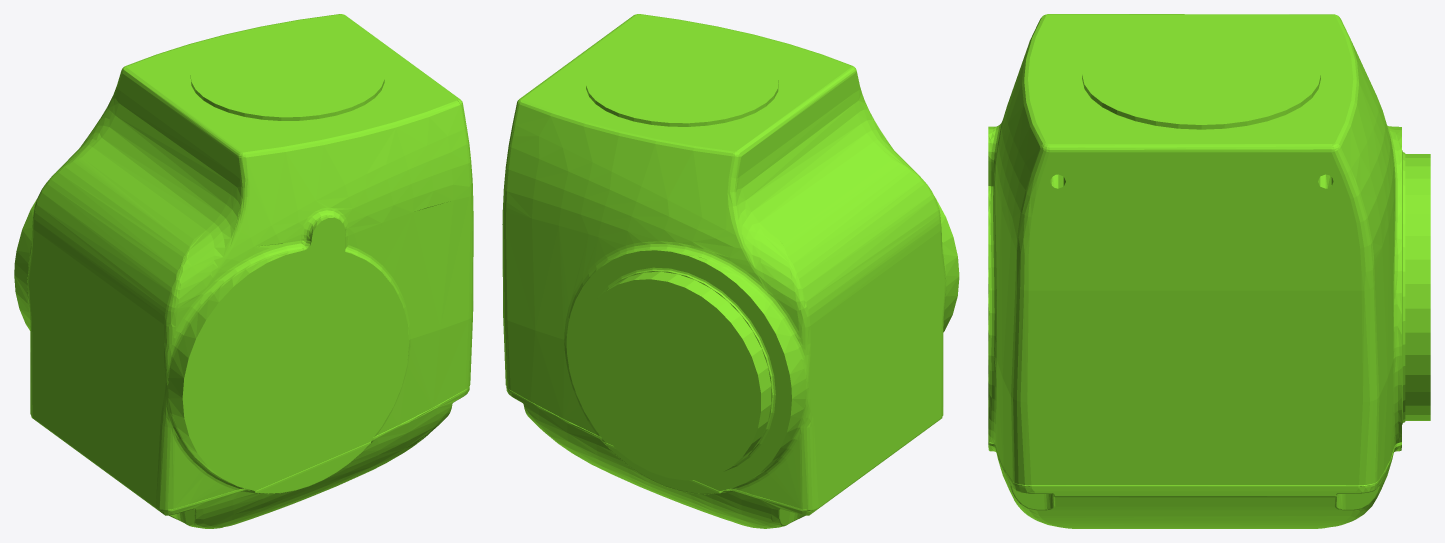
3 renders of one model, left to right at view 1: azimuth 30°, elevation 25°; view 2: azimuth 150°, elevation 25°; view 3: azimuth 270°, elevation 25°, orthographic. The views are drawn at different scales.
Parts seen in each view (by area): view 1: node; view 2: node; view 3: node.
Part boxes in pixels (x1,y1,x2,y2): node: (14, 14, 473, 528); node: (502, 14, 959, 528); node: (988, 14, 1430, 528).
Size of the model in its own units: 138 by 165 by 139.
